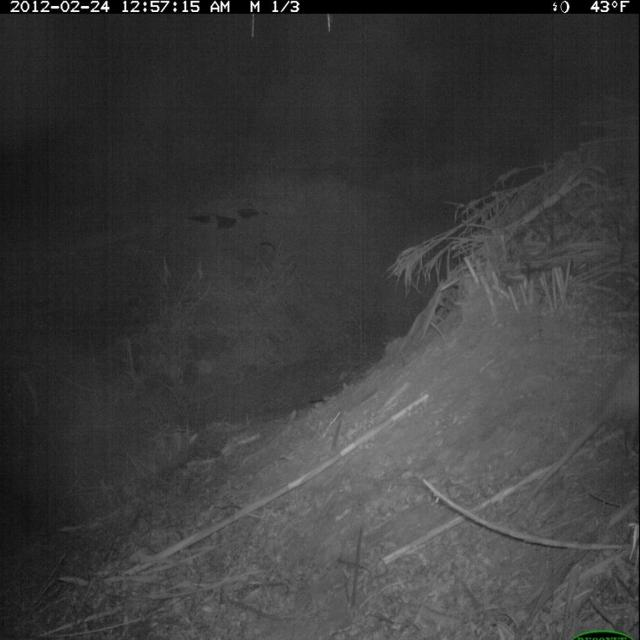opossum: (524, 345, 640, 513)
